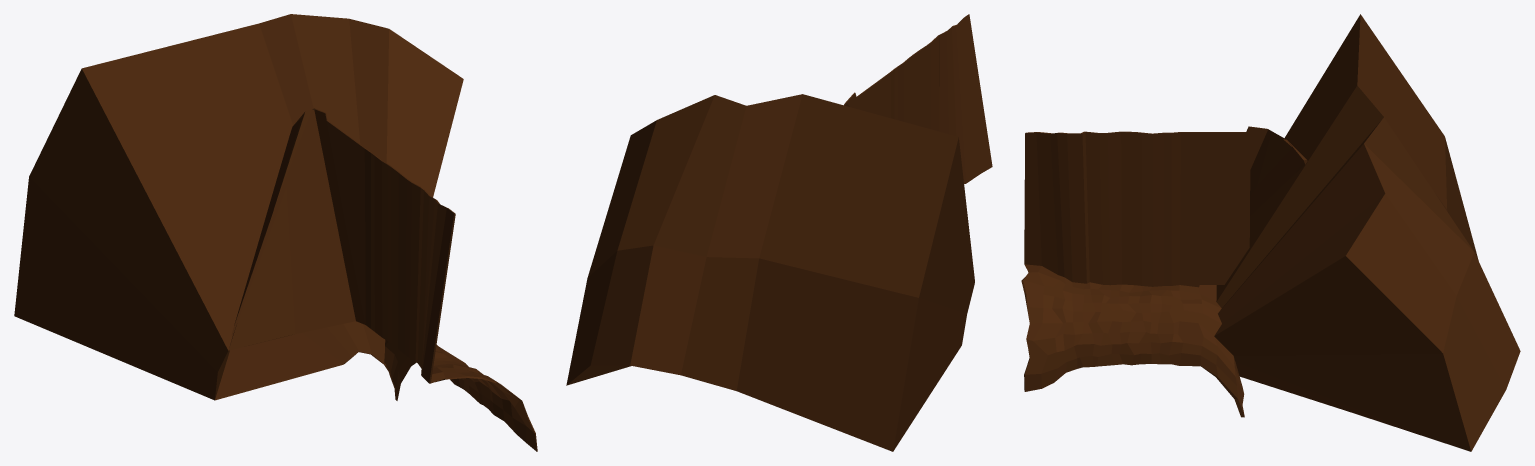
Rendered from StartCave.fbx.
3 views of the same model, side by side, from view 1: azimuth 30°, elevation 25°; view 2: azimuth 150°, elevation 25°; view 3: azimuth 270°, elevation 25° (orthographic). The views are drawn at different scales.
Visible parts, largest first — view 1: Cylinder; view 2: Cylinder; view 3: Cylinder.
Part boxes in pixels (x1,y1,x2,y2): Cylinder: (14, 14, 537, 451); Cylinder: (566, 14, 992, 451); Cylinder: (1021, 14, 1520, 451).
Size of the model in its own units: 1305 by 1144 by 1717.
